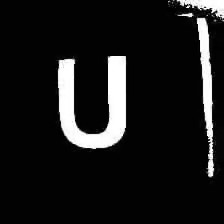LTR_U: (49, 50, 135, 153)
